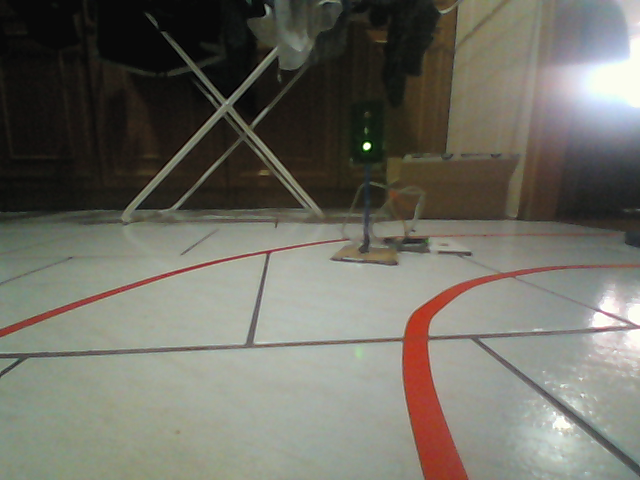green_sign: (347, 98, 385, 166)
